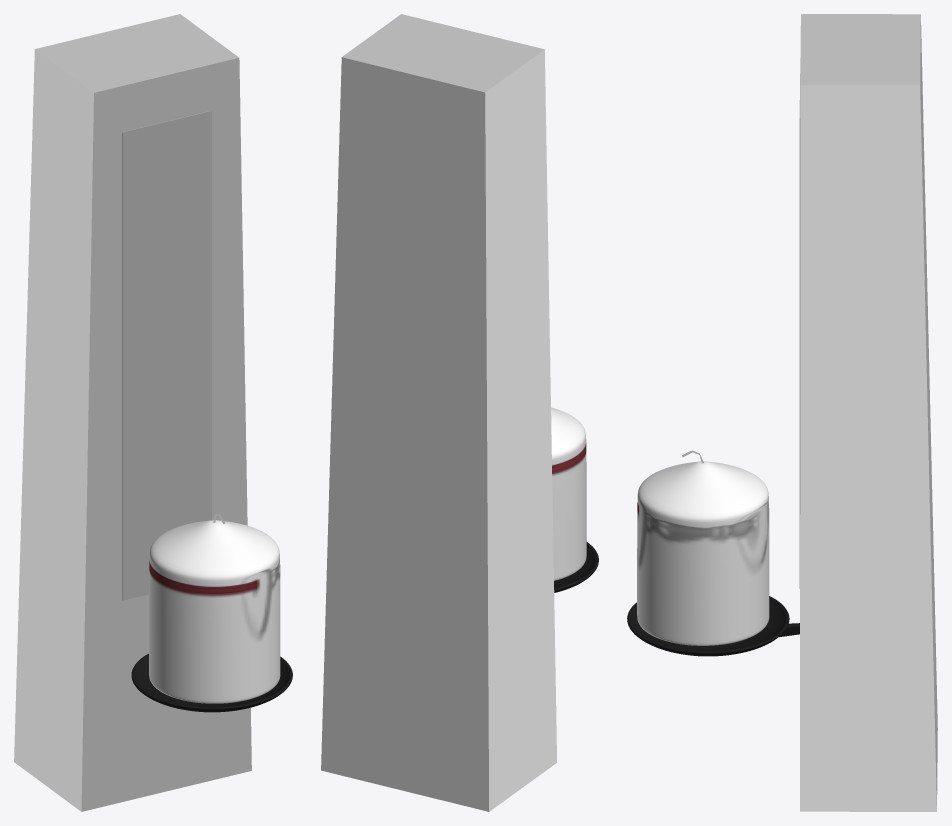
File: candleOrnament.obj
The picture shows the model from 3 angles, left to right: view 1: azimuth 30°, elevation 25°; view 2: azimuth 150°, elevation 25°; view 3: azimuth 270°, elevation 25°; orthographic projection.
Visible parts, largest first — view 1: CandleOrnament_1, CandleOrnament_4, CandleOrnament_2, CandleOrnament_3; view 2: CandleOrnament_1, CandleOrnament_2, CandleOrnament_3; view 3: CandleOrnament_1, CandleOrnament_2, CandleOrnament_3, CandleOrnament_4.
Boxes of the visible parts, x1,y1,x2,y2 form: CandleOrnament_1: (14, 14, 251, 811); CandleOrnament_4: (122, 110, 211, 600); CandleOrnament_2: (149, 520, 280, 703); CandleOrnament_3: (131, 653, 292, 712); CandleOrnament_1: (321, 14, 556, 811); CandleOrnament_2: (551, 407, 586, 580); CandleOrnament_3: (554, 542, 598, 592); CandleOrnament_1: (800, 14, 937, 811); CandleOrnament_2: (637, 461, 769, 645); CandleOrnament_3: (627, 596, 789, 656); CandleOrnament_4: (799, 74, 800, 588).
Bounding box in the file's own units: 7.96 × 31.94 × 12.49.
